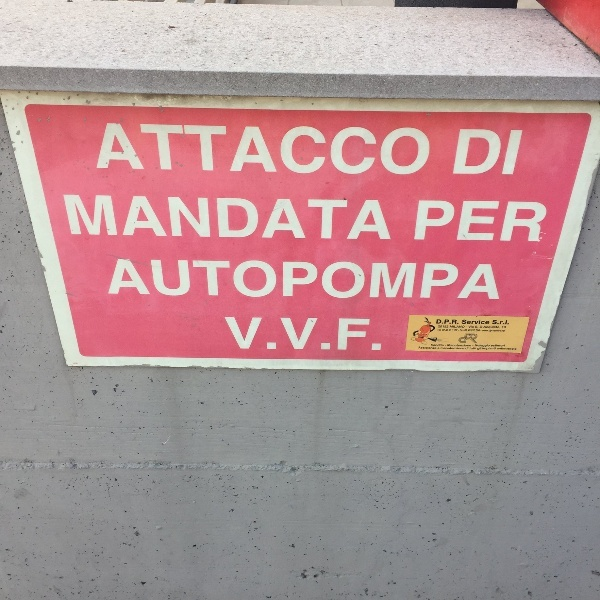text: (113, 120, 128, 179), (129, 120, 144, 179), (145, 120, 160, 179), (161, 120, 176, 179), (177, 120, 192, 179), (193, 120, 208, 179), (209, 120, 224, 179), (225, 120, 240, 179), (241, 120, 256, 179), (257, 120, 272, 179), (273, 120, 288, 179), (289, 120, 304, 179), (305, 120, 320, 179), (321, 120, 336, 179), (337, 120, 352, 179), (353, 120, 368, 179), (369, 120, 384, 179), (385, 120, 400, 179), (401, 120, 416, 179), (417, 120, 432, 179), (465, 128, 480, 180), (481, 128, 496, 180), (497, 128, 512, 180), (65, 195, 80, 244), (81, 195, 96, 244), (97, 195, 112, 244), (113, 195, 128, 244), (129, 195, 144, 244), (145, 195, 160, 244), (161, 195, 176, 244), (177, 195, 192, 244), (193, 195, 208, 244), (209, 195, 224, 244), (225, 195, 240, 244), (241, 195, 256, 244), (257, 195, 272, 244), (273, 195, 288, 244), (289, 195, 304, 244), (305, 195, 320, 244), (321, 195, 336, 244), (337, 195, 352, 244), (353, 195, 368, 244), (369, 195, 384, 244), (513, 128, 526, 180), (433, 200, 448, 245), (449, 200, 464, 245), (465, 200, 480, 245), (481, 200, 496, 245), (497, 200, 512, 245), (513, 200, 528, 245), (529, 200, 544, 245), (129, 258, 144, 302), (145, 258, 160, 302), (161, 258, 176, 302), (177, 258, 192, 302), (193, 258, 208, 302), (209, 258, 224, 302), (225, 258, 240, 302), (241, 258, 256, 302), (257, 258, 272, 302), (273, 258, 288, 302), (289, 258, 304, 302), (305, 258, 320, 302), (321, 258, 336, 302), (337, 258, 352, 302), (353, 258, 368, 302), (369, 258, 384, 302), (385, 258, 400, 302), (401, 258, 416, 302), (417, 258, 432, 302), (433, 258, 448, 302), (449, 258, 464, 302), (465, 258, 480, 302), (481, 258, 496, 302), (418, 200, 432, 245), (225, 316, 240, 355), (241, 316, 256, 355), (257, 316, 272, 355), (273, 316, 288, 355), (289, 316, 304, 355), (305, 316, 320, 355), (321, 316, 336, 355), (337, 316, 352, 355), (353, 316, 368, 355), (369, 316, 384, 355), (118, 258, 128, 302), (105, 120, 112, 179), (385, 195, 392, 244), (545, 200, 552, 245), (497, 258, 502, 302), (460, 128, 464, 180), (433, 120, 436, 179), (465, 334, 478, 344), (62, 195, 64, 244), (465, 320, 480, 325), (437, 319, 448, 325), (449, 319, 459, 325), (497, 320, 509, 325), (481, 326, 496, 330), (483, 347, 496, 351), (481, 320, 491, 325), (459, 334, 464, 344), (449, 347, 465, 350), (449, 329, 464, 332), (465, 329, 480, 332), (450, 326, 464, 329), (433, 344, 447, 347), (466, 347, 480, 350), (438, 325, 448, 329), (419, 346, 432, 349), (468, 329, 480, 332), (437, 329, 448, 332), (502, 326, 512, 329), (454, 329, 464, 332), (481, 330, 496, 332), (438, 347, 448, 350), (470, 347, 480, 350), (497, 348, 512, 350), (482, 330, 496, 332), (465, 326, 474, 329), (471, 329, 480, 332), (497, 330, 506, 333), (481, 344, 490, 347), (451, 345, 464, 347), (472, 344, 480, 347), (497, 344, 505, 347), (489, 330, 496, 333), (441, 347, 448, 350), (442, 329, 448, 332), (497, 326, 501, 330), (493, 320, 496, 325), (475, 326, 480, 329), (491, 344, 496, 347), (460, 329, 464, 332), (476, 329, 480, 332), (465, 345, 471, 347), (428, 347, 432, 350), (433, 347, 437, 350), (513, 348, 517, 350), (446, 329, 448, 332), (449, 344, 451, 347), (478, 344, 480, 347), (478, 347, 480, 350), (463, 320, 464, 325), (431, 344, 432, 347), (481, 347, 482, 350)
